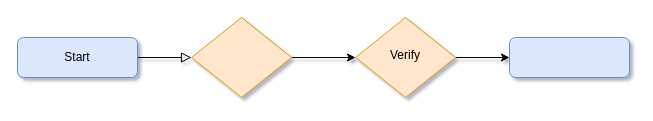
Some shapes in this 653 by 121 pixel diagram are drawn without their labels. Here are the shapes that lost their labels. From the top down, the centre of each, then its label:
At (241,57): "Predict".
At (569,57): "End".
